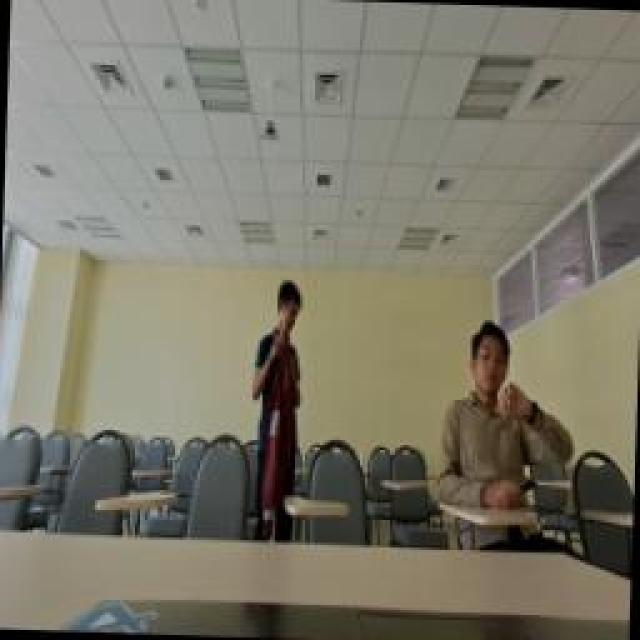phone: (437, 288, 565, 518)
